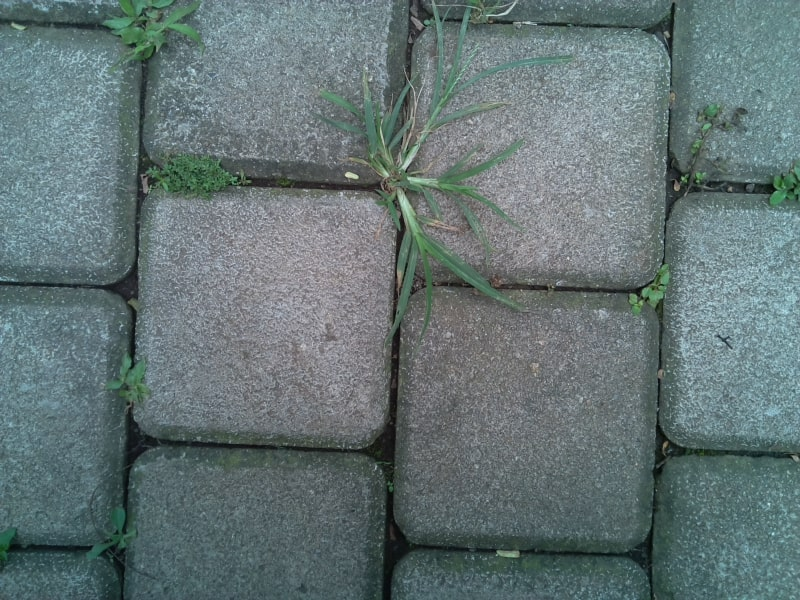Weed: (329, 1, 541, 325), (95, 1, 208, 67), (143, 154, 256, 199), (89, 507, 140, 564), (105, 352, 155, 408), (439, 1, 523, 31), (625, 262, 669, 316), (767, 163, 800, 215), (374, 454, 399, 498), (1, 519, 17, 572)
